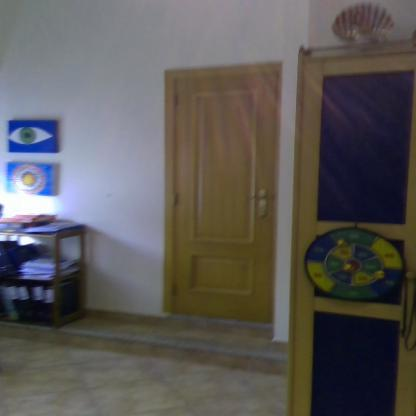door: (174, 78, 276, 320)
hinged: (170, 192, 178, 206), (172, 94, 178, 110), (171, 281, 176, 296)
lever: (245, 193, 270, 202)
